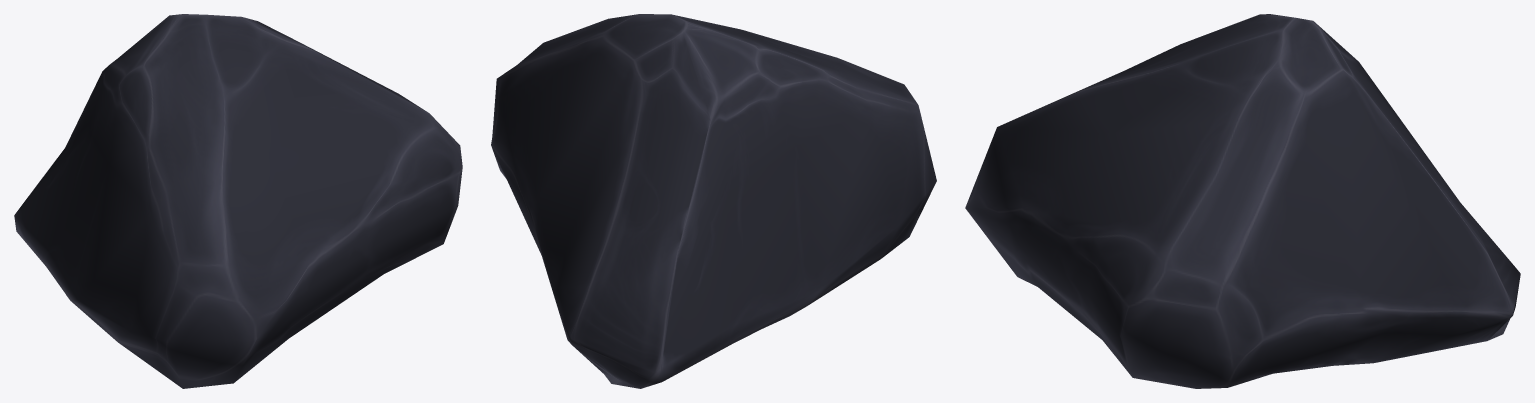
Rendered from Stone_3_Variation_3.fbx.
3 views of the same model, side by side, from view 1: azimuth 30°, elevation 25°; view 2: azimuth 150°, elevation 25°; view 3: azimuth 270°, elevation 25° (orthographic). The views are drawn at different scales.
Parts seen in each view (by area): view 1: Stone_3_Variation_3; view 2: Stone_3_Variation_3; view 3: Stone_3_Variation_3.
Part boxes in pixels (x1=…): Stone_3_Variation_3: x1=14, y1=14, x2=462, y2=388; Stone_3_Variation_3: x1=491, y1=14, x2=936, y2=388; Stone_3_Variation_3: x1=965, y1=14, x2=1520, y2=388.
Bounding box in the file's own units: 121 × 94.6 × 146.
